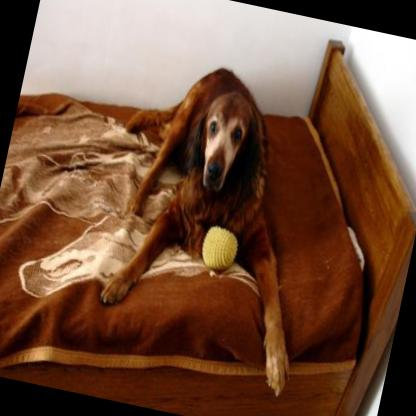Irish_setter: (78, 49, 350, 396)
